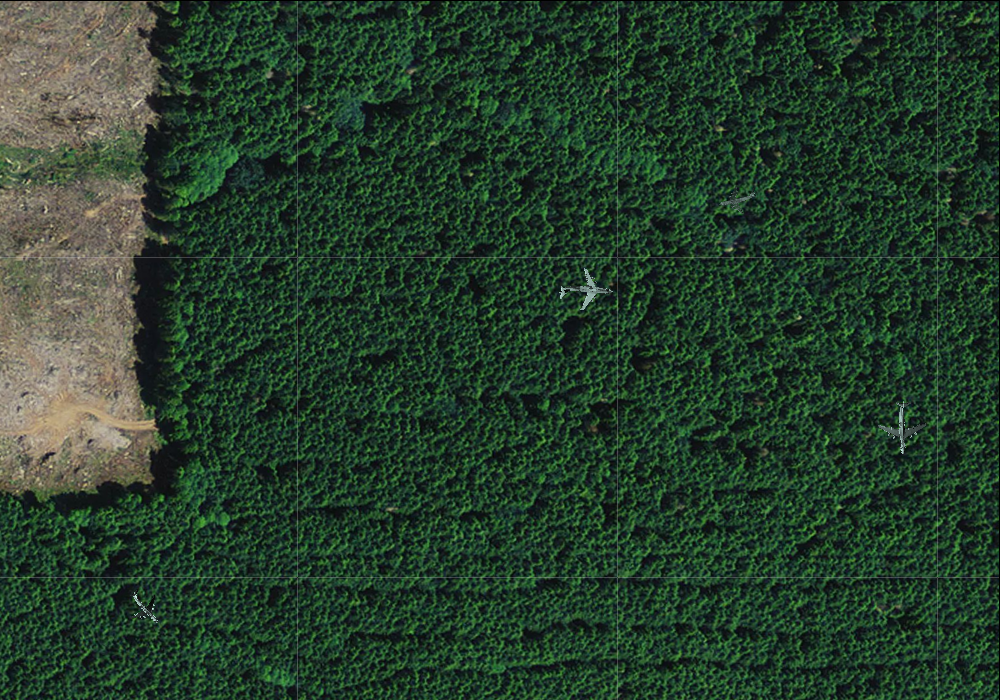plane: (557, 264, 614, 318), (876, 400, 930, 455), (117, 580, 172, 634), (715, 177, 760, 219)
